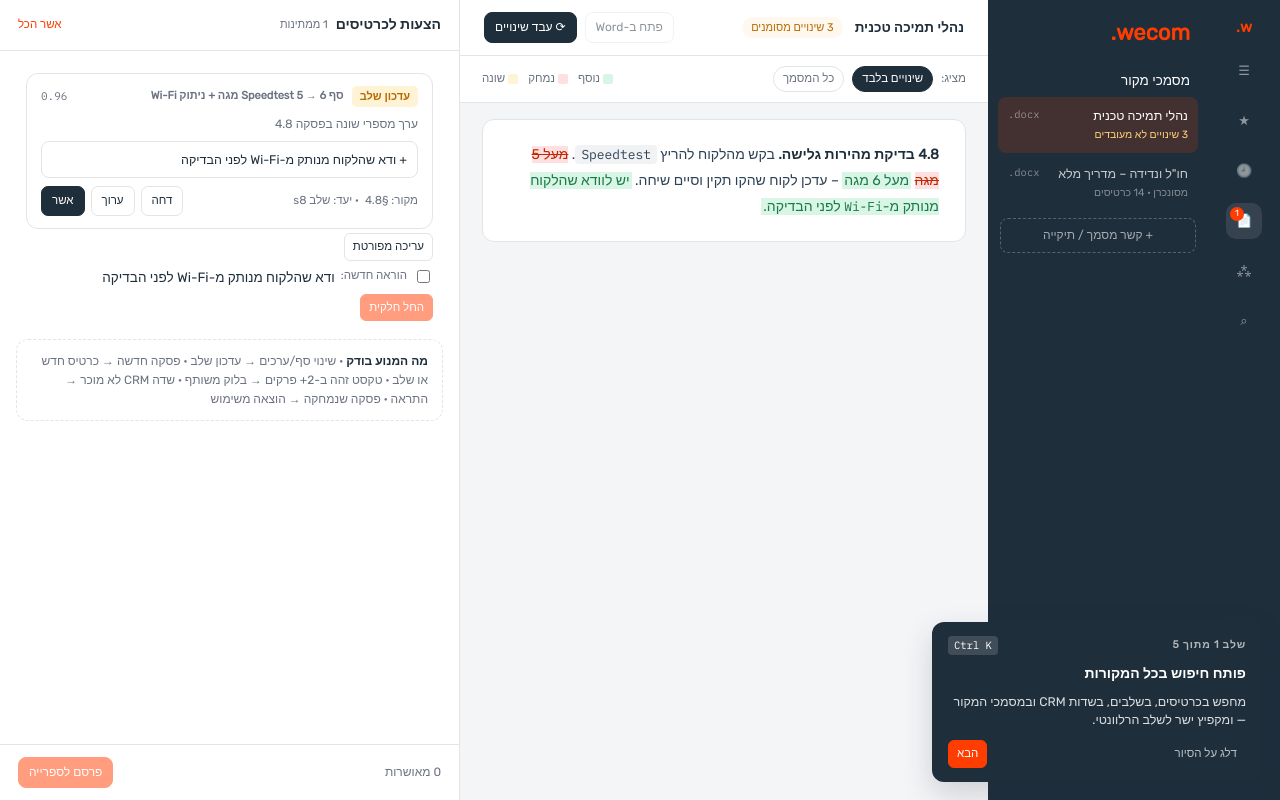
it: X6 sources-page mounts › renders the workspace suggestions panel — affects chips and the structured editor
The width and height of the screenshot is (1280, 800).
Click the button "עריכה מפורטת" at {"x": 388, "y": 247}, box [344,233,433,261]
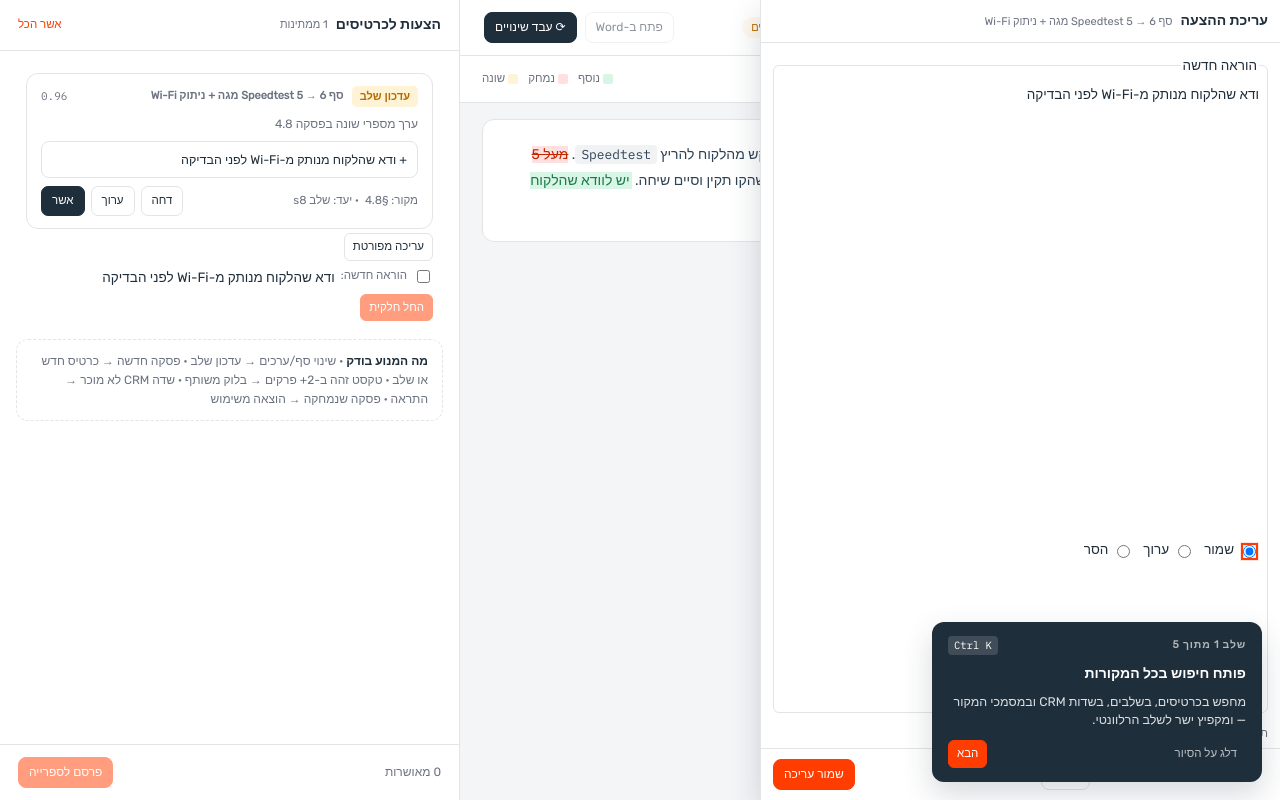
Check: the dialog "עריכת ההצעה" is shown, box [760,0,1279,799]
